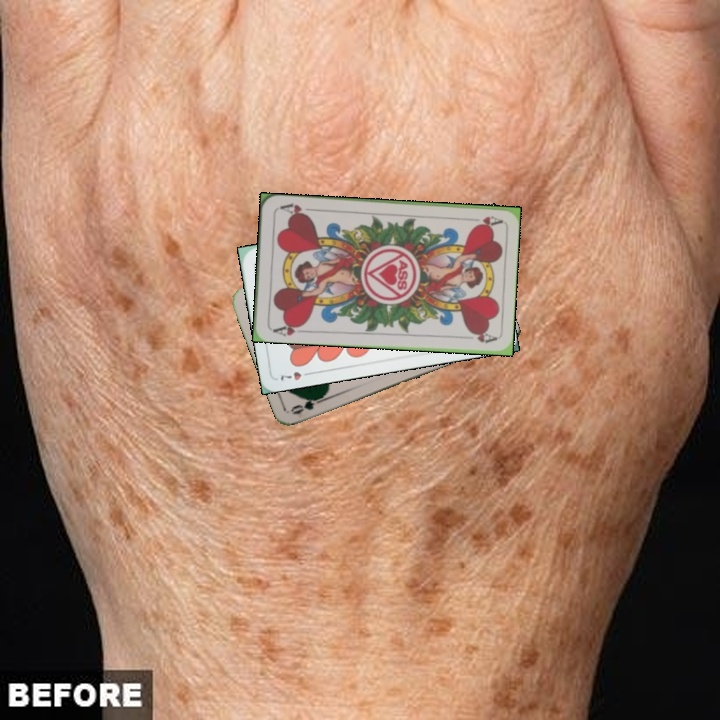GO: (287, 391, 327, 417)
H7: (276, 367, 315, 383)
HA: (269, 318, 309, 338), (471, 212, 503, 229)
